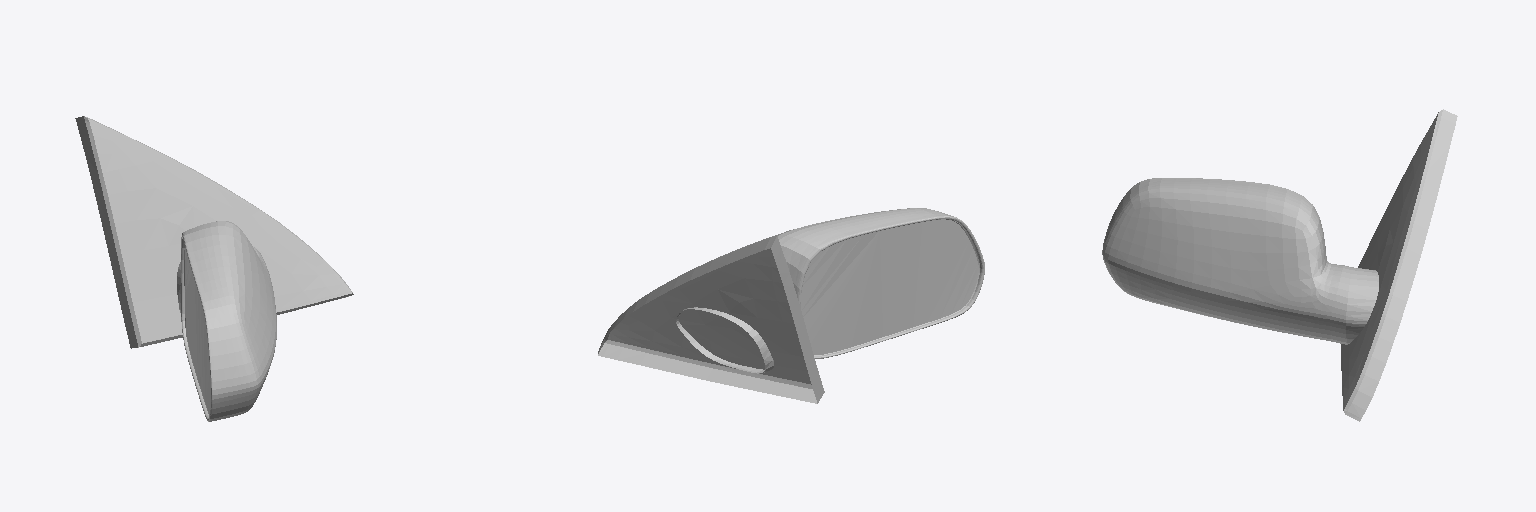
3 views of the same model, side by side, from view 1: azimuth 30°, elevation 25°; view 2: azimuth 150°, elevation 25°; view 3: azimuth 270°, elevation 25° (orthographic).
Parts seen in each view (by area): view 1: E233_281I_R_E233_281I_R_3_D, E233_281I_R_2_DaS_E233_281I_R, E233_281I_R_E233_281I_R_1_DTaSI; view 2: E233_281I_R_E233_281I_R_3_D, E233_281I_R_E233_281I_R_1_DTaSI, E233_281I_R_2_DaS_E233_281I_R; view 3: E233_281I_R_2_DaS_E233_281I_R, E233_281I_R_E233_281I_R_3_D.
Part boxes in pixels (left/top/right/bottom): E233_281I_R_E233_281I_R_3_D: left=75, top=116, right=353, bottom=363; E233_281I_R_2_DaS_E233_281I_R: left=181, top=221, right=276, bottom=421; E233_281I_R_E233_281I_R_1_DTaSI: left=185, top=248, right=210, bottom=414; E233_281I_R_E233_281I_R_3_D: left=598, top=235, right=853, bottom=403; E233_281I_R_E233_281I_R_1_DTaSI: left=801, top=219, right=978, bottom=354; E233_281I_R_2_DaS_E233_281I_R: left=777, top=208, right=984, bottom=350; E233_281I_R_2_DaS_E233_281I_R: left=1102, top=178, right=1330, bottom=326; E233_281I_R_E233_281I_R_3_D: left=1258, top=109, right=1457, bottom=421.
Size of the model in its own units: 32.75 by 24.5 by 38.56.